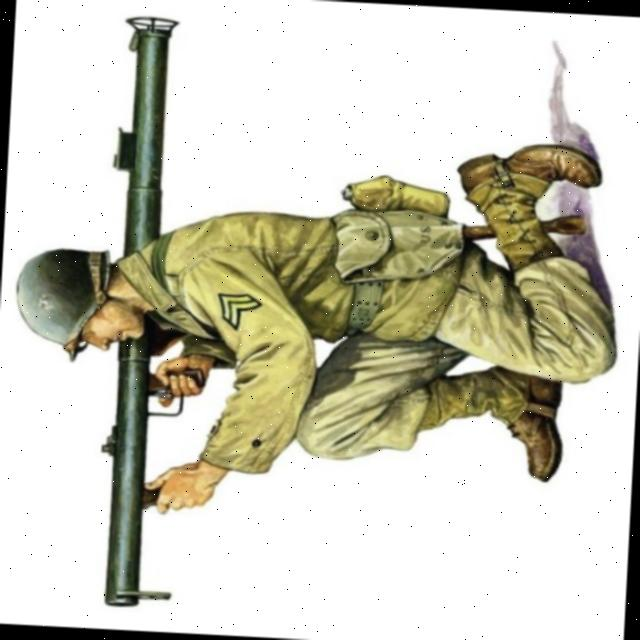Bazooka: (83, 11, 233, 616)
